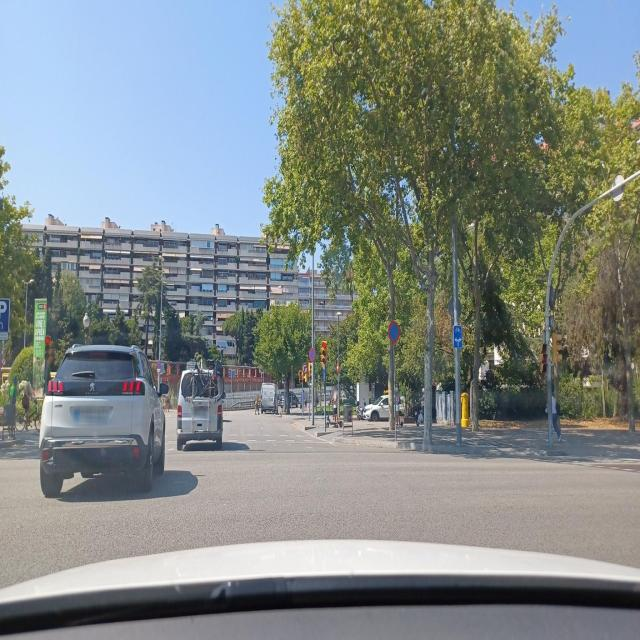forb_stopping: (388, 321, 400, 343)
